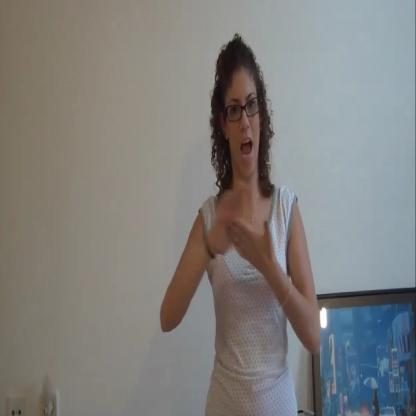NiceToMeetYou: (203, 184, 271, 276)
